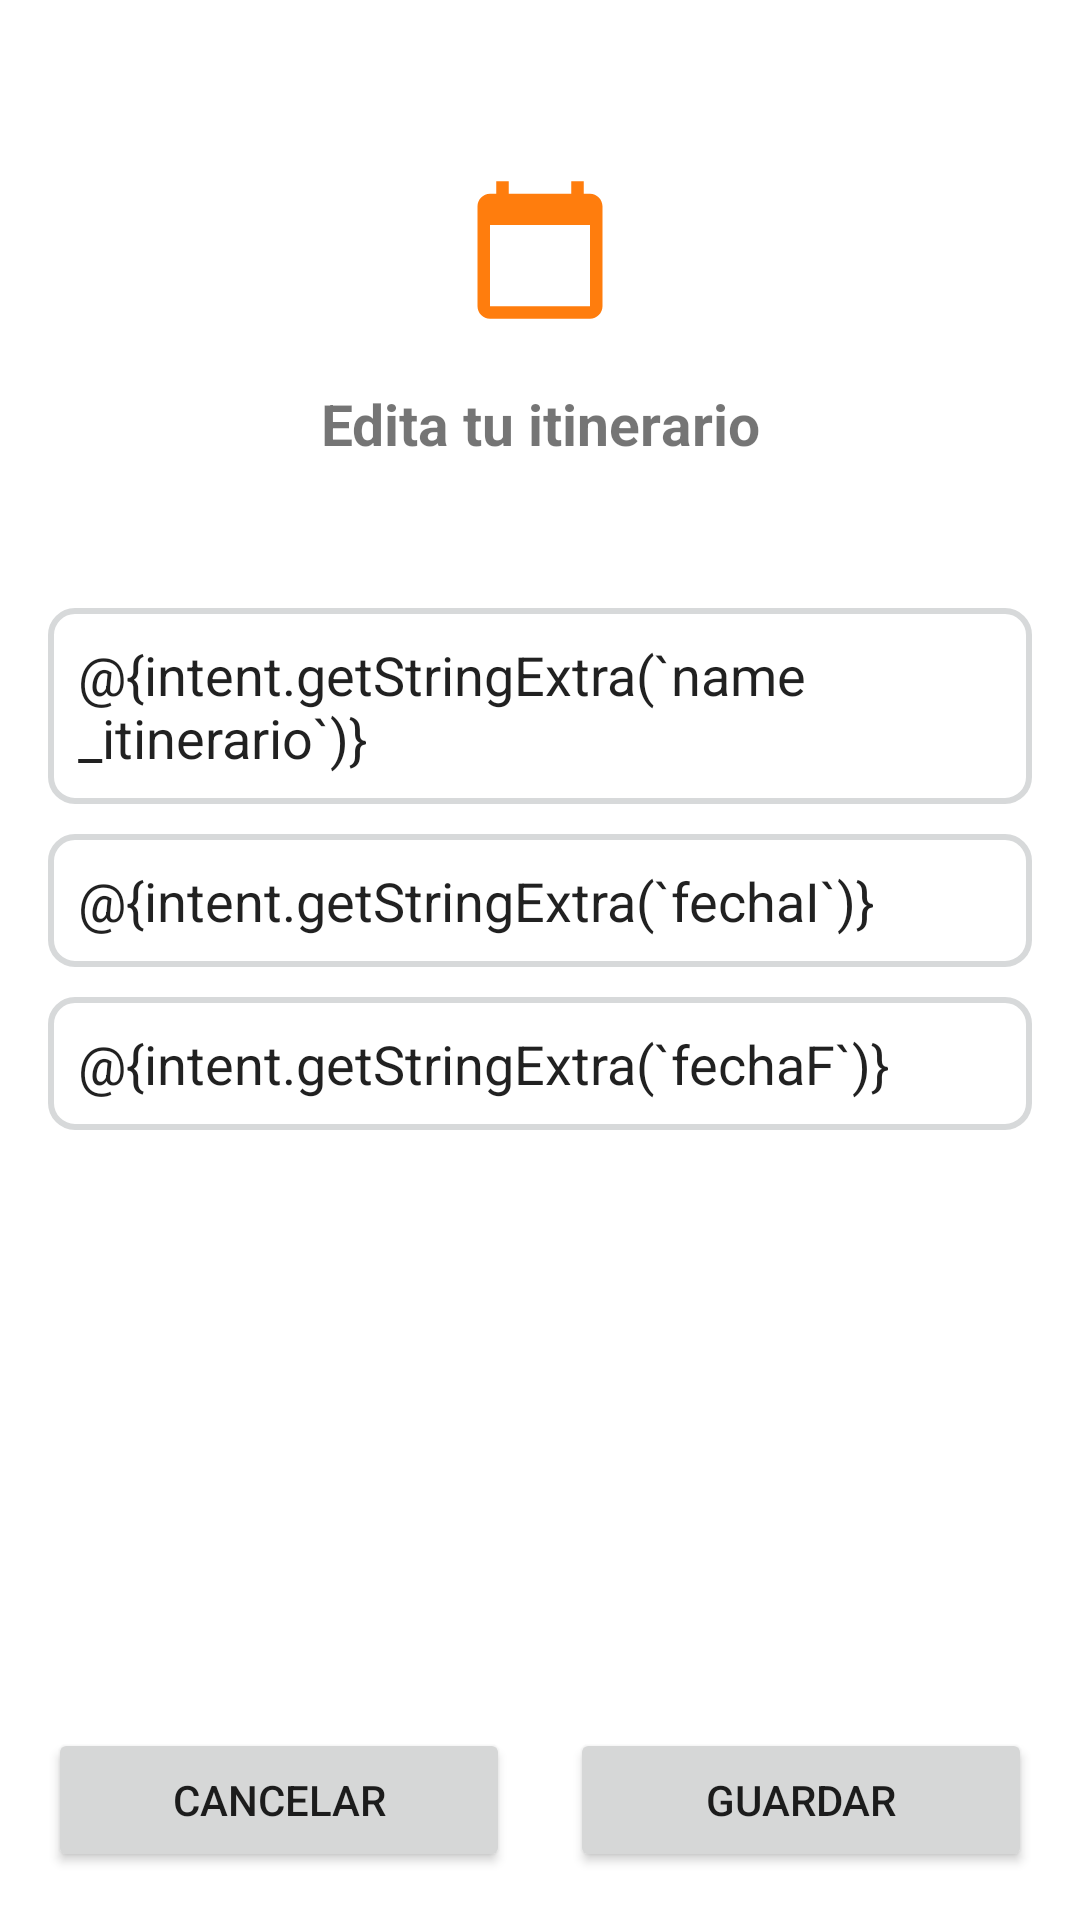

Named icons in this screenshot (1080 × 1920) and their centers, point (x, y):
calendar: point (540, 250)
